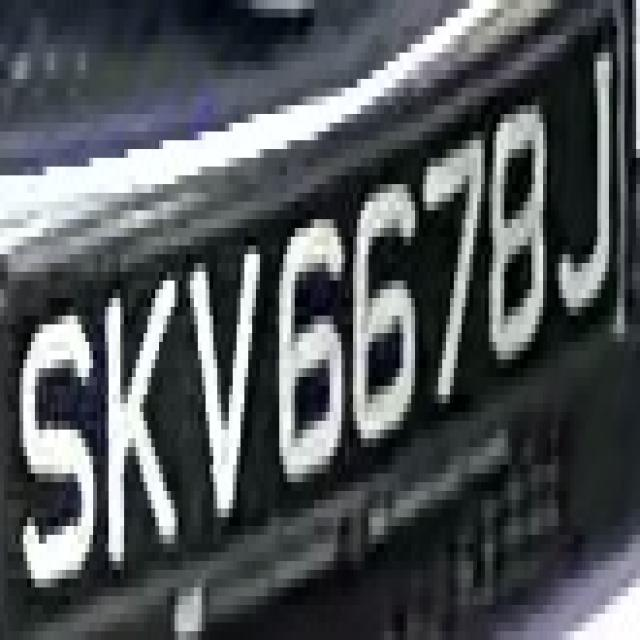6: (264, 158, 353, 508), (345, 166, 431, 474)
7: (415, 132, 489, 430)
8: (477, 87, 559, 386)
J: (551, 44, 628, 351)
K: (85, 228, 178, 579)
S: (19, 272, 101, 622)
V: (178, 211, 268, 544)
